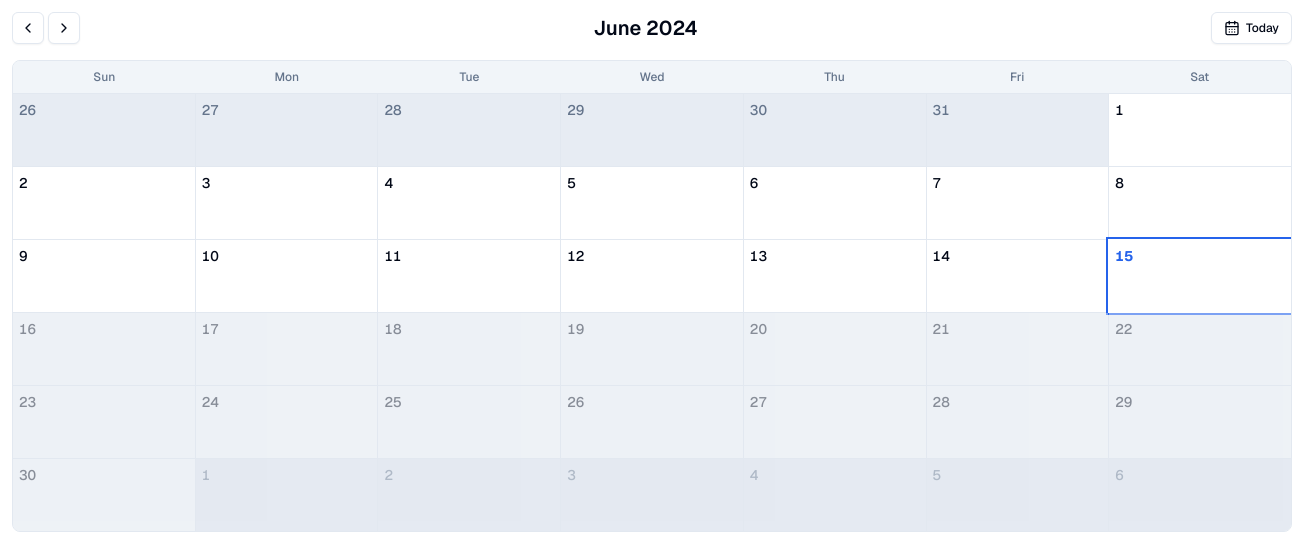
Test: Calendar › navigates to previous month
Step 1. Click the button named "Previous month" → (28, 28), box [12,12,44,44]
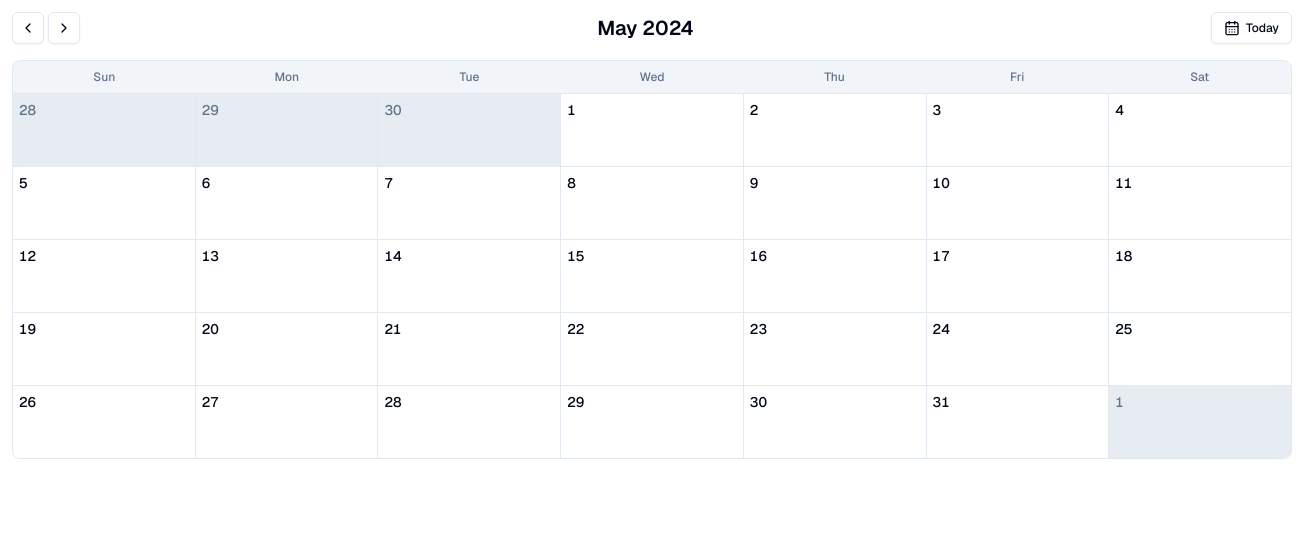
Expected: the heading "May 2024" is shown, [597,14,694,42]
